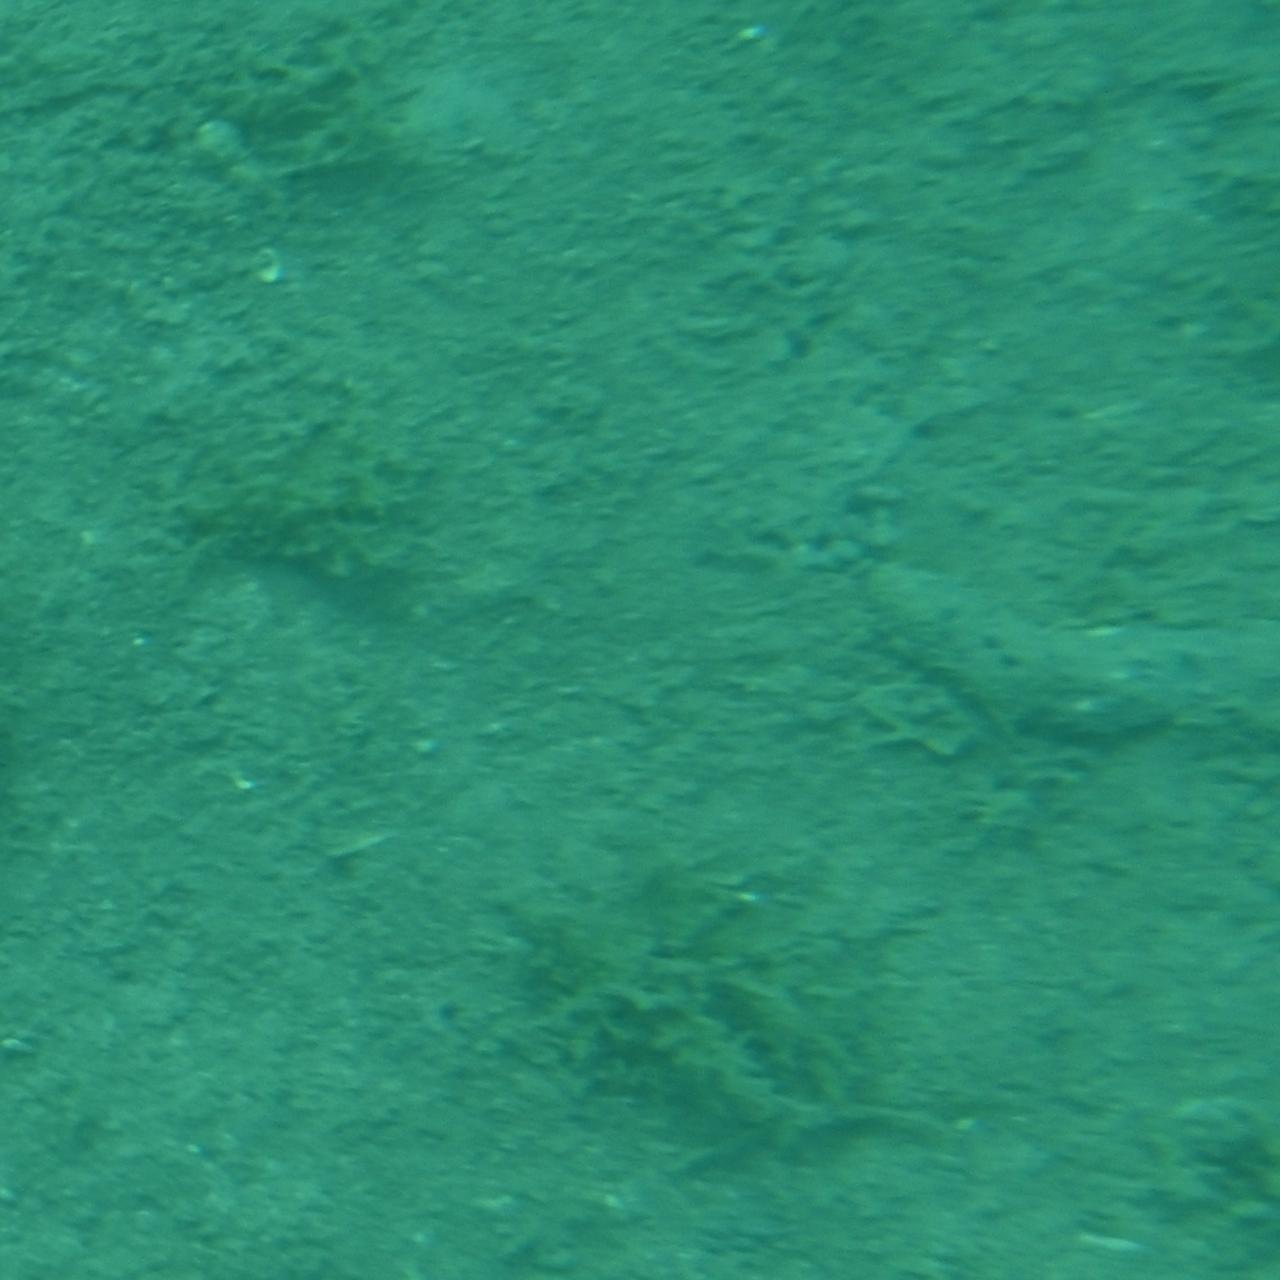Holothuria tubulosa: (855, 545, 1280, 735)
